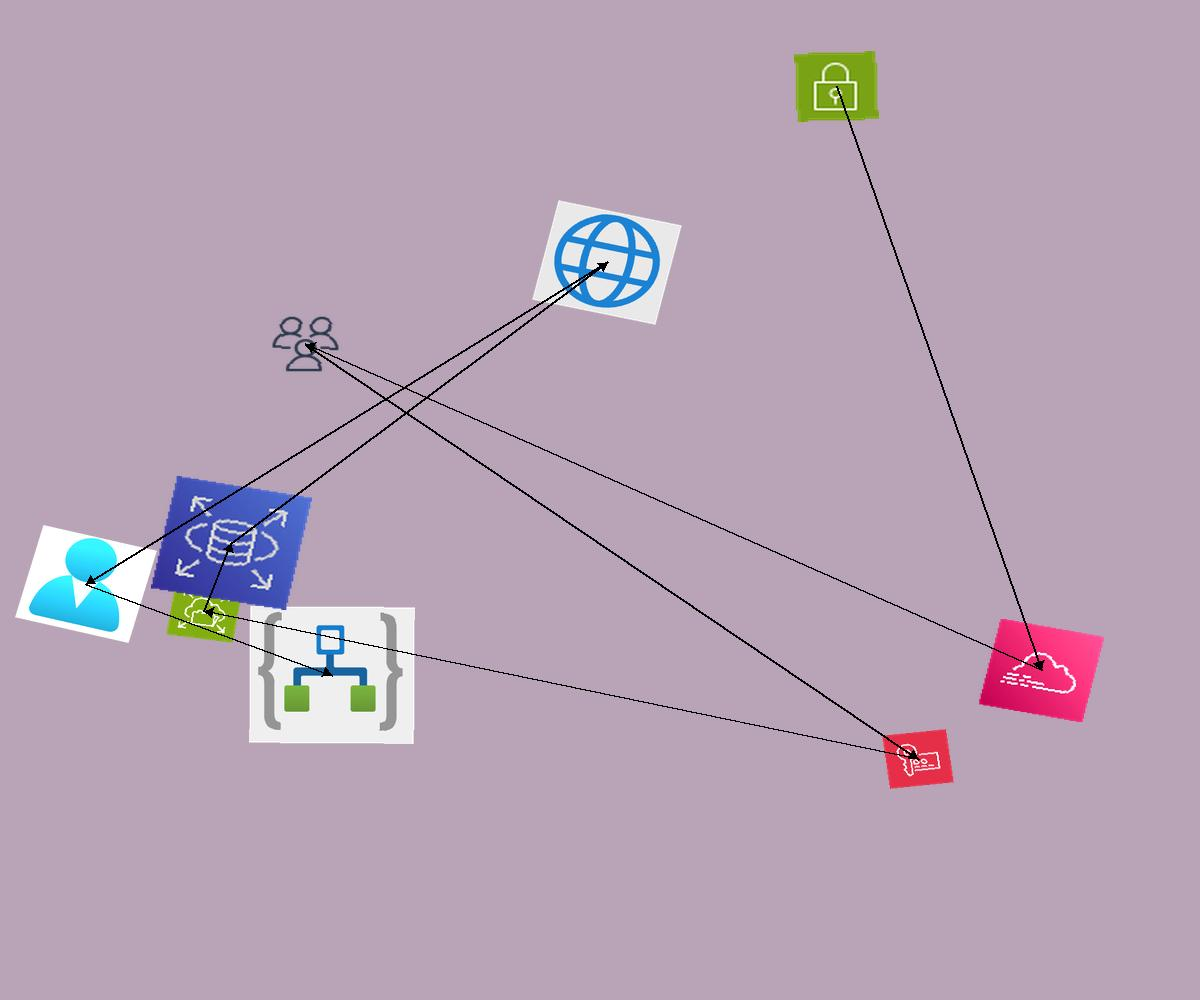AWS-CloudTrail: (978, 618, 1105, 723)
AWS-EFS: (166, 579, 243, 643)
AWS-Key-Management-Service: (882, 729, 954, 789)
AWS-Public-subnet: (794, 51, 879, 122)
AWS-RDS: (151, 476, 312, 610)
AWS-Res_Users: (268, 313, 343, 375)
Azure_http: (532, 200, 682, 325)
Azure_integration-204-Logic-Apps: (249, 606, 415, 744)
Azure_users: (15, 525, 157, 643)
